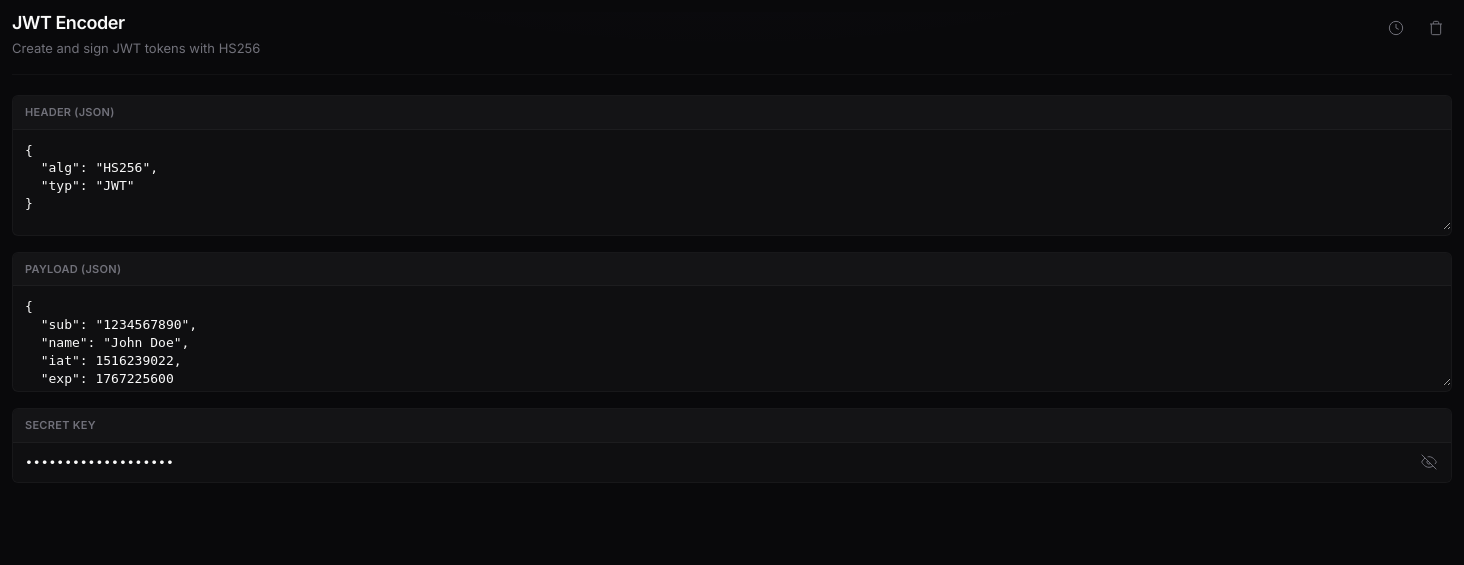
Test: JwtEncoderTool › should show error for invalid header JSON
The width and height of the screenshot is (1464, 565).
Replace the text in the text box with class "input-textarea" below "Header (JSON)" with "invalid json" at x=732, y=180, box [13,130,1451,230]
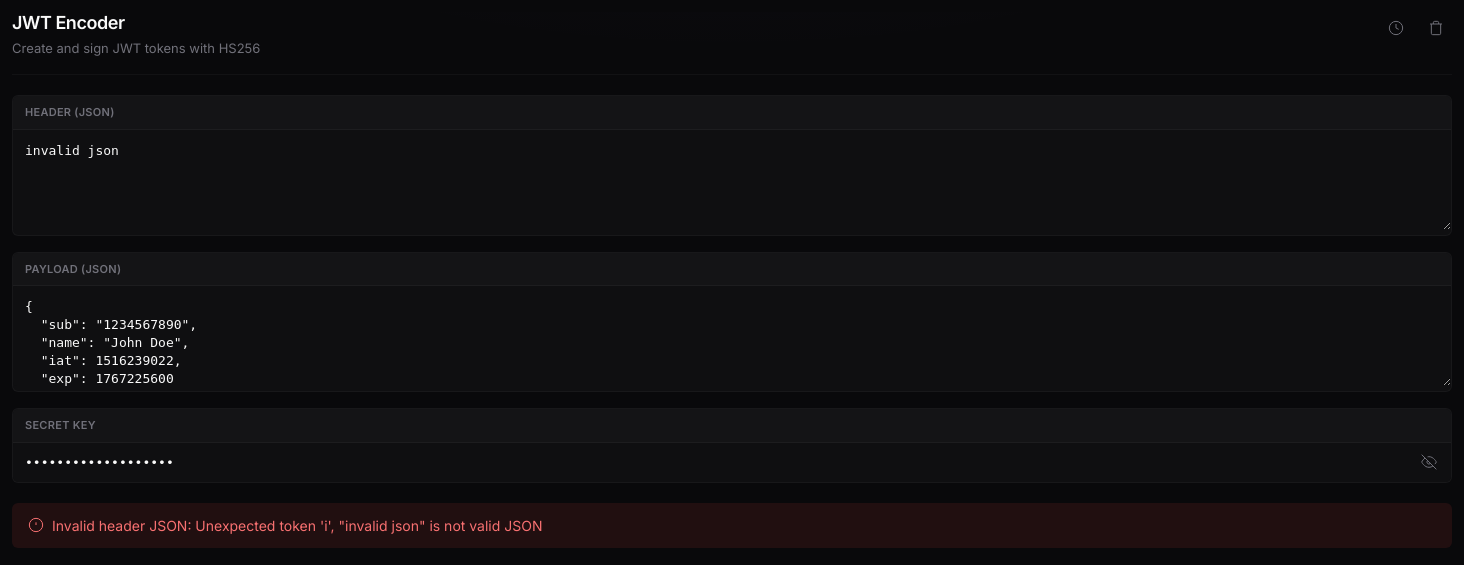
Expected: the text "Invalid header JSON" is shown, [52,516,542,534]
